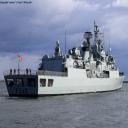Fragata: (4, 18, 127, 101)
